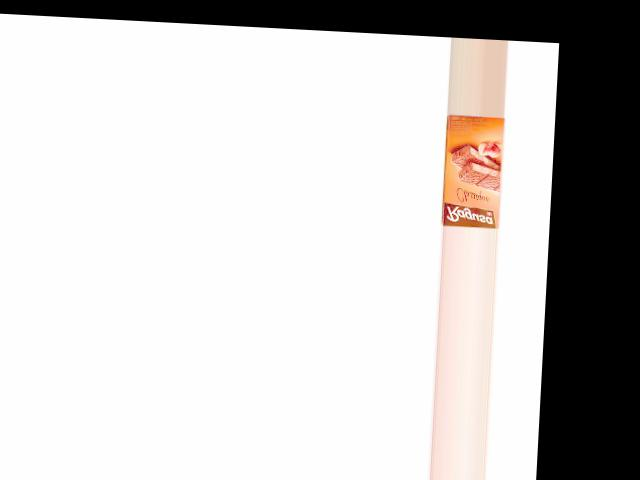chocolate: (438, 113, 511, 228)
